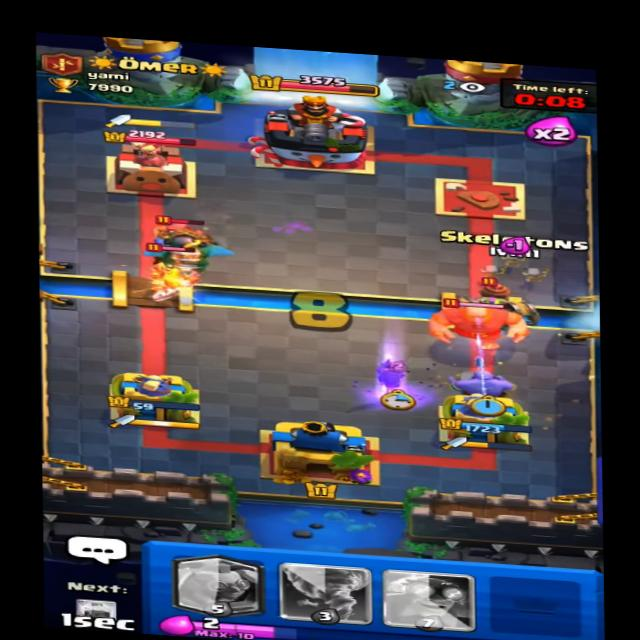Fisherman: (146, 204, 221, 253)
Giant: (423, 295, 541, 356)
Goblinmachine: (434, 279, 545, 331)
Prince: (144, 251, 204, 305)
